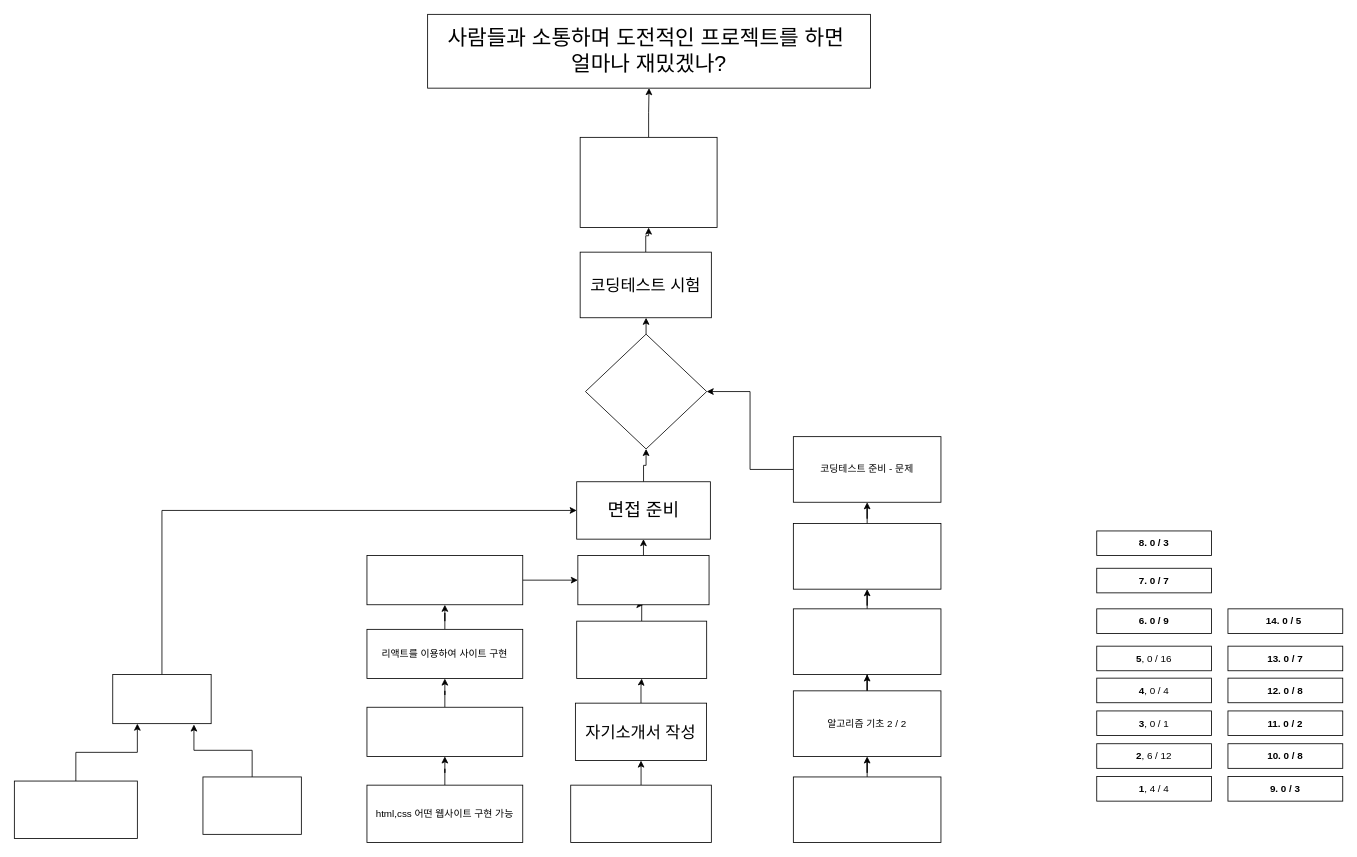
The diagram is 1357 pixels wide and 857 high, and some of its shapes have lost their labels. Each missing label, with the box of its shape:
1차 합격: (577, 555, 709, 605)
html,css,javascript 동적인 웹사이트 구현: (366, 706, 523, 756)
면접질문 모음: (202, 776, 301, 834)
목표 달성: (579, 137, 717, 228)
서버를 구현 하여 사이트만들기: (366, 555, 523, 605)
알고리즘 기초 1 / 2: (793, 776, 941, 843)
알고리즘 중급 1 / 3: (793, 608, 941, 674)
자바스크립트 deep dive: (14, 780, 137, 838)
지원할 회사 찾기: (570, 784, 711, 843)
코딩테스트 준비 - 연습: (793, 523, 941, 589)
회사 지원서 넣기: (576, 620, 707, 679)
